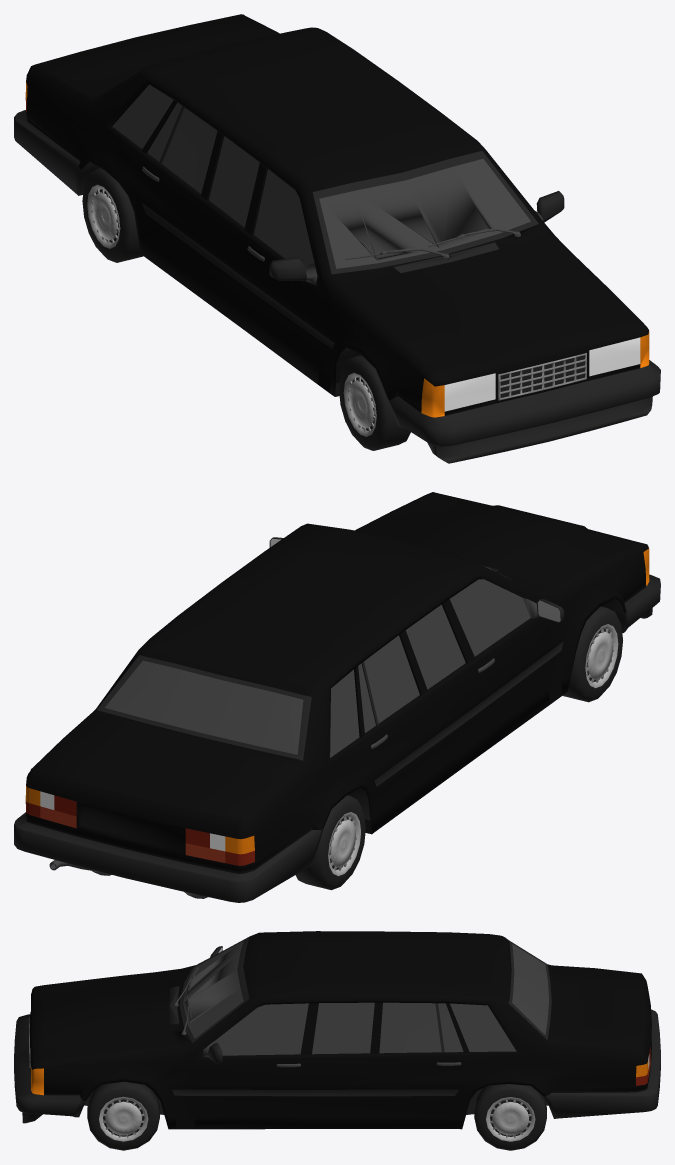
3 renders of one model, top to bottom at view 1: azimuth 30°, elevation 25°; view 2: azimuth 150°, elevation 25°; view 3: azimuth 270°, elevation 25°, orthographic. The views are drawn at different scales.
Parts seen in each view (by area): view 1: 4_palette_0; view 2: 4_palette_0; view 3: 4_palette_0.
Part boxes in pixels (left/top/right/bottom): 4_palette_0: left=14, top=14, right=660, bottom=463; 4_palette_0: left=14, top=492, right=660, bottom=902; 4_palette_0: left=14, top=931, right=660, bottom=1150.
Bounding box in the file's own units: 2.13 × 1.36 × 5.41.
Materials: 1 (1 with a texture image).
